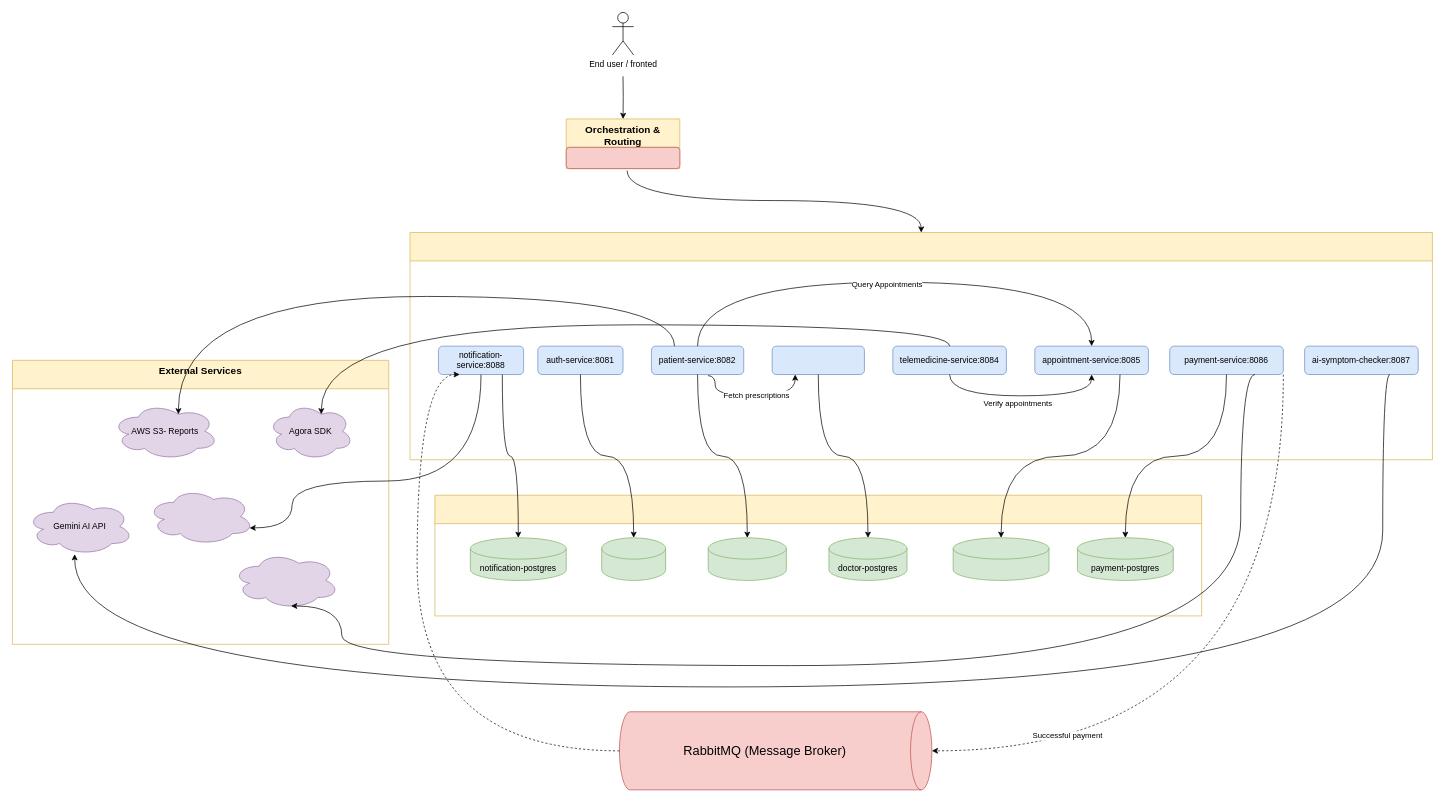
Some shapes in this 1445 by 802 pixel diagram are drawn without their labels. Each missing label, with the box of its shape:
api-gateway:8080: (566, 147, 680, 169)
appointment-postgres: (952, 537, 1049, 580)
auth-postgres: (601, 537, 666, 580)
Core Microservices: (409, 232, 1432, 460)
Databases: (434, 495, 1202, 616)
doctor-service:8083: (771, 345, 864, 375)
patient-postgres: (708, 537, 786, 580)
SMTP Mail Server: (147, 487, 254, 545)
Stripe API: (232, 551, 339, 609)
